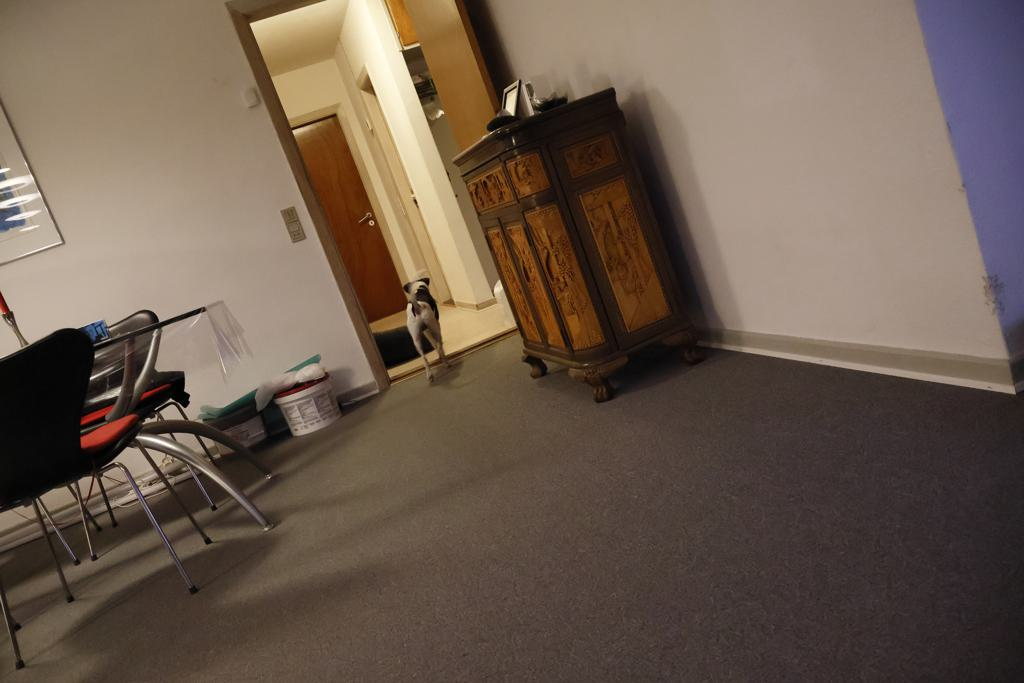Dog: (397, 262, 460, 389)
